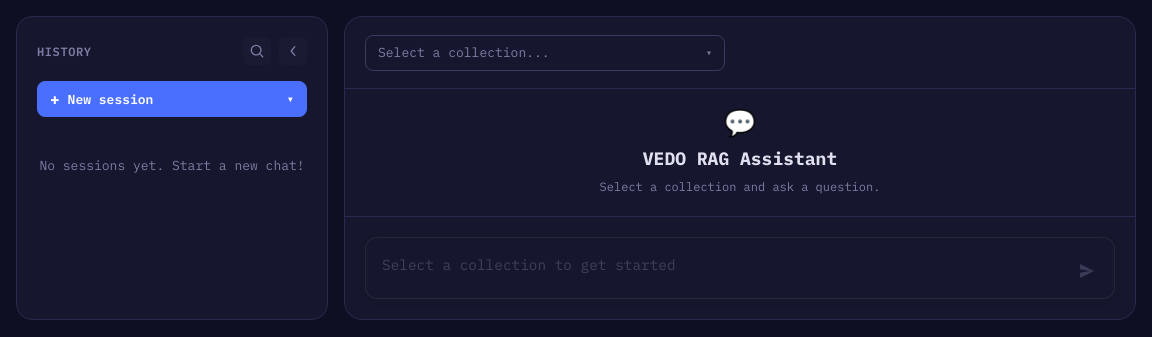
Test: ChatWindow (ChatView) › shows collection options when the chat collection selector is opened
Click the button with test id "collection-selector-trigger": click(545, 52) 365,34 -> 725,70
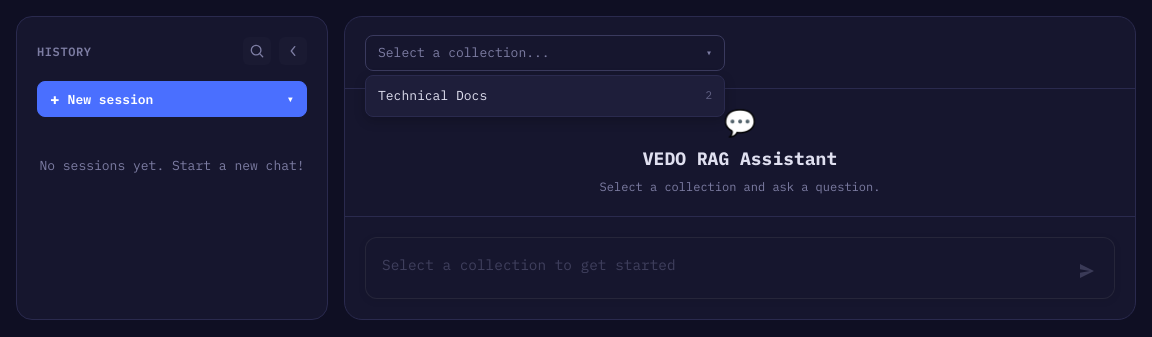
Result: the element with test id "collection-selector-dropdown" is shown at 365,74 -> 725,116
Result: the element with test id "collection-selector-dropdown" shows "Technical Docs" at 366,80 -> 724,112
